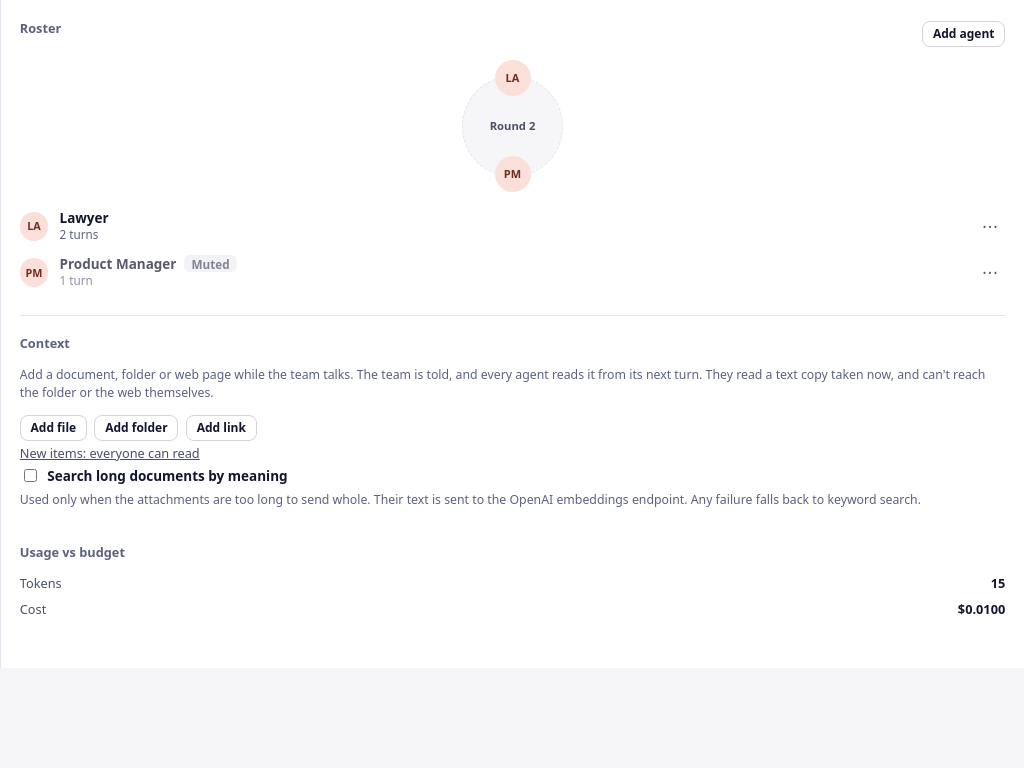
Test case: RoomRail roster (UX-06) › asks before removing, and removes only after confirming
Click the button named "More actions for Lawyer" at [990, 227], box [975, 213, 1005, 240]
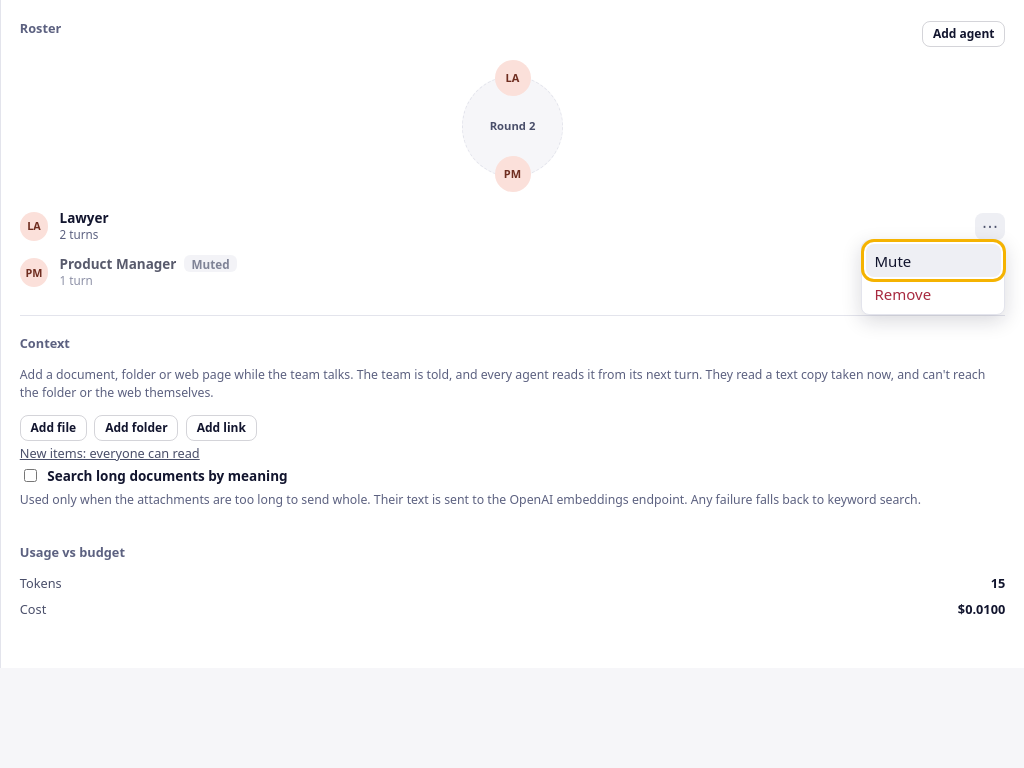
Click the menu item "Remove" at [933, 294], box [866, 277, 1000, 310]
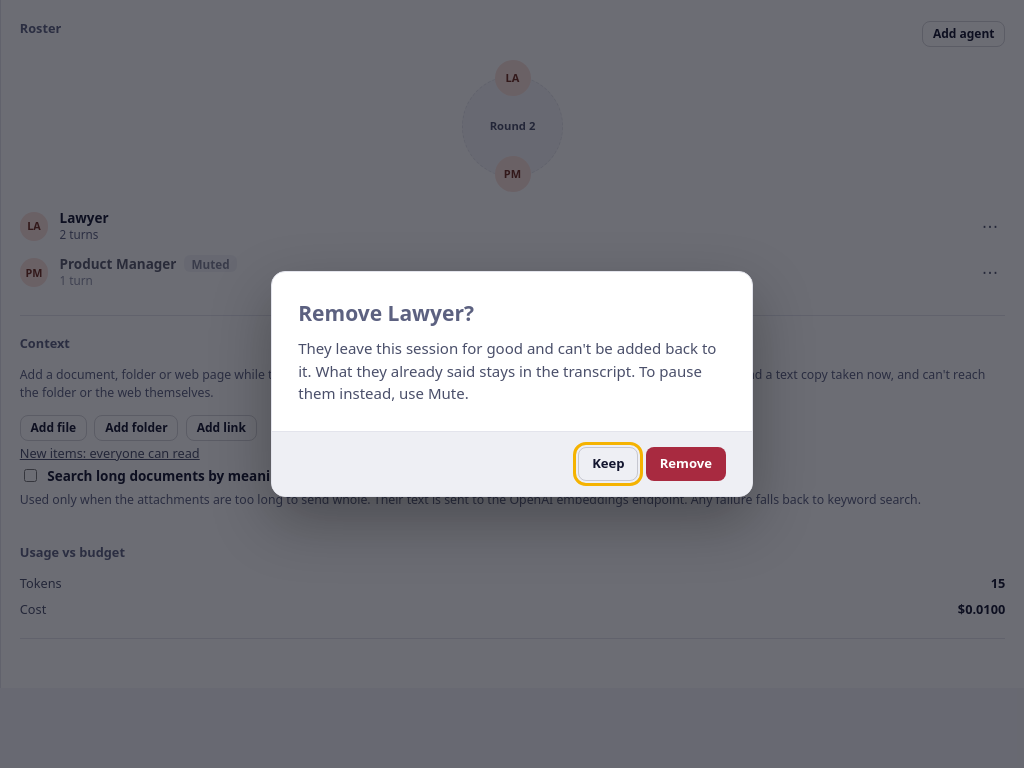
Click the button "Keep" at [608, 464], box [578, 447, 638, 481]
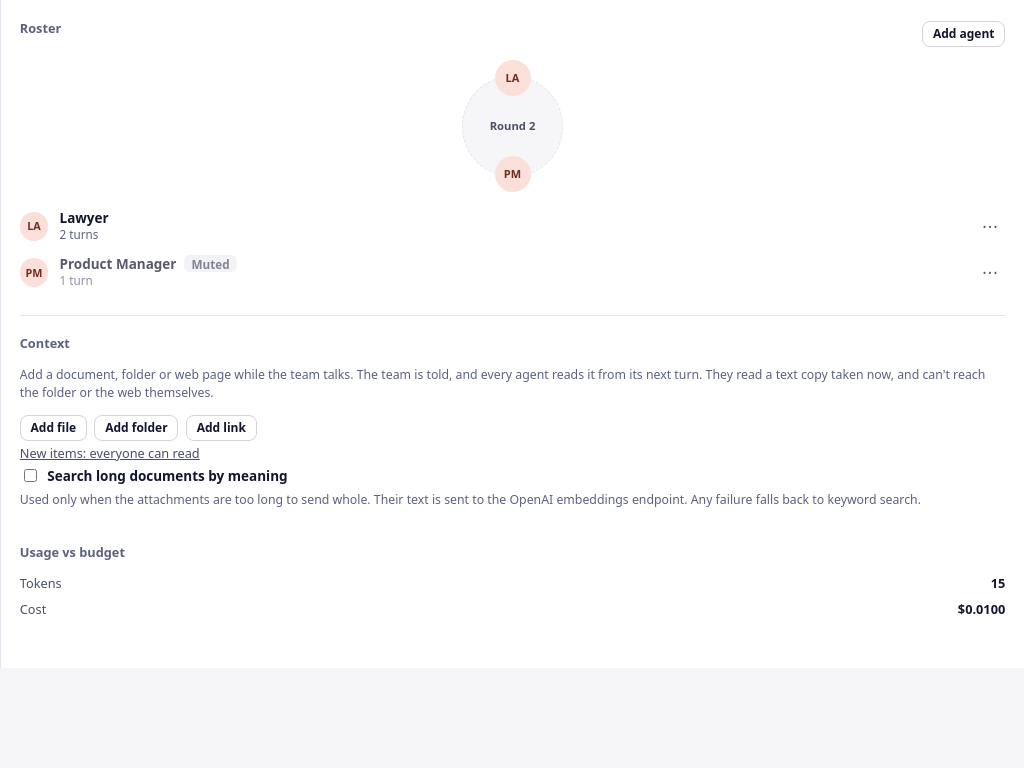
Click the button named "More actions for Lawyer" at [990, 227], box [975, 213, 1005, 240]
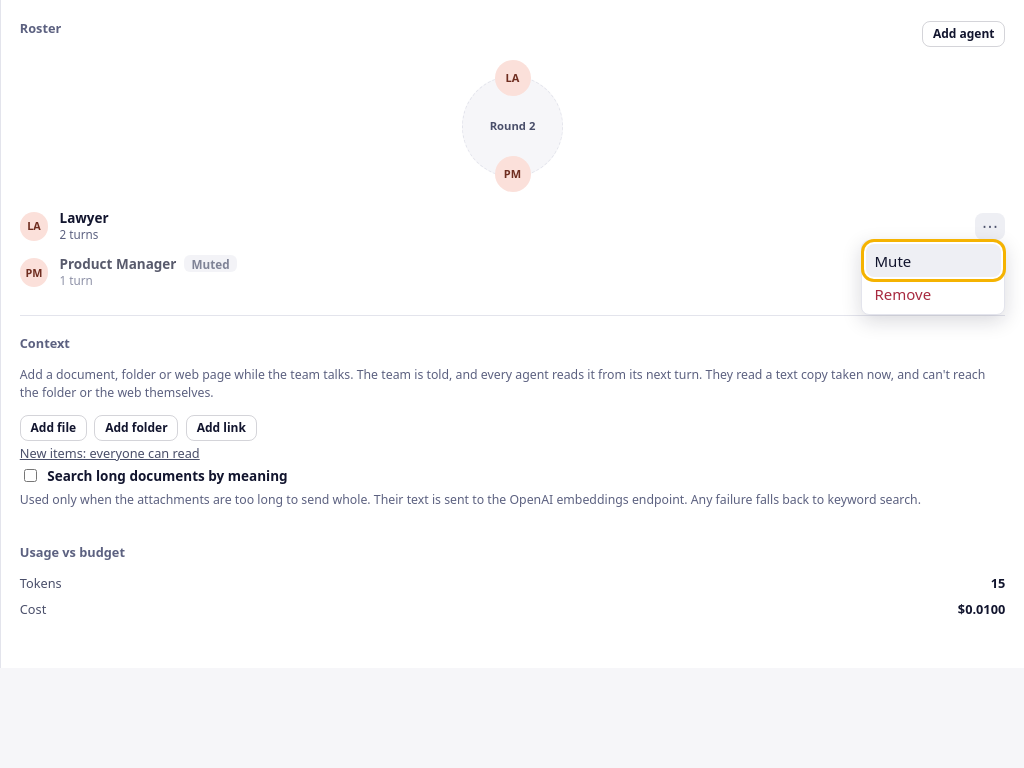
Click the menu item "Remove" at [933, 294], box [866, 277, 1000, 310]
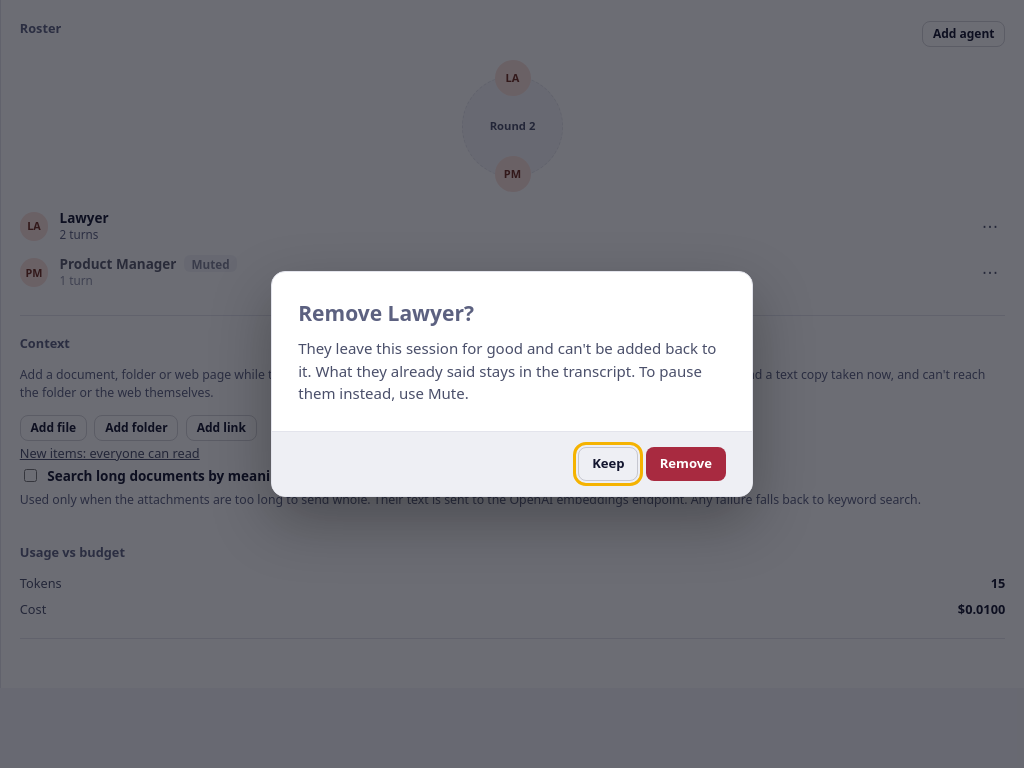
Click the button "Remove" at [686, 464], box [646, 447, 726, 481]
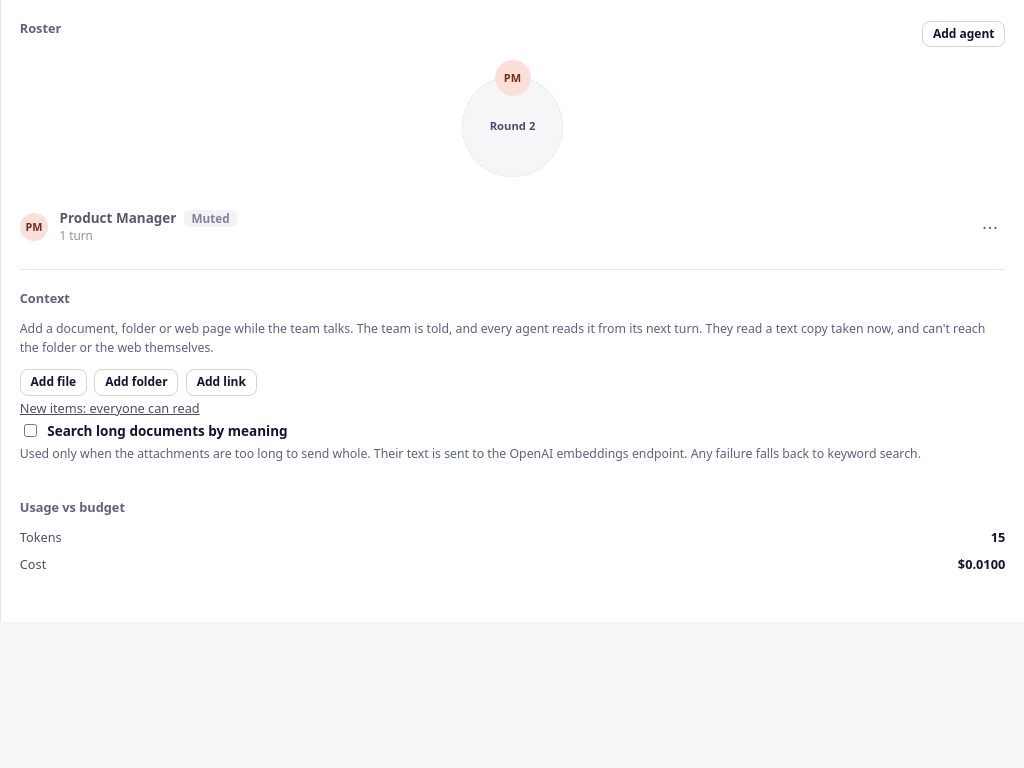
Result: the text "More actions for Lawyer" is gone
